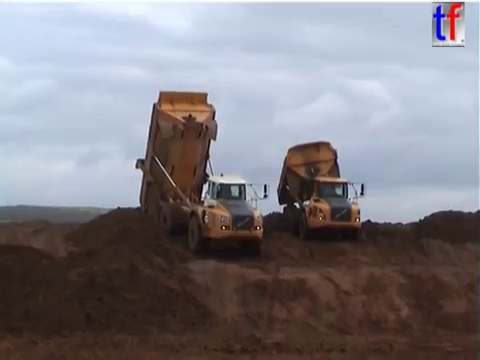truck: (133, 88, 272, 257), (275, 139, 366, 243)
